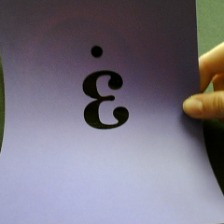violet3: (71, 41, 136, 134)
